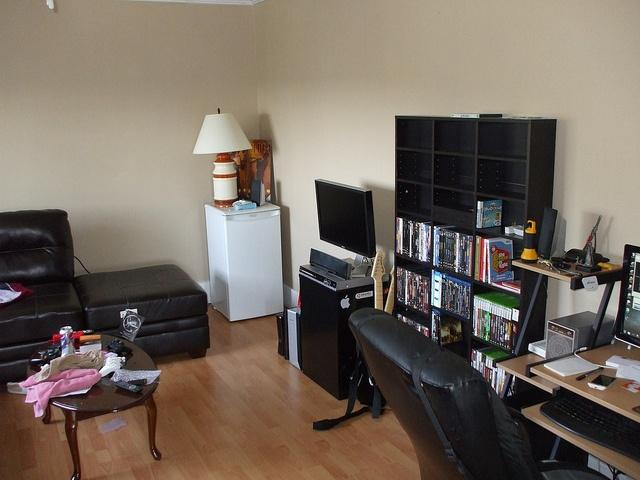AIO PC-Monitor-TV: (314, 177, 375, 258)
Meja: (29, 328, 161, 479)
Rak: (393, 115, 530, 357)
